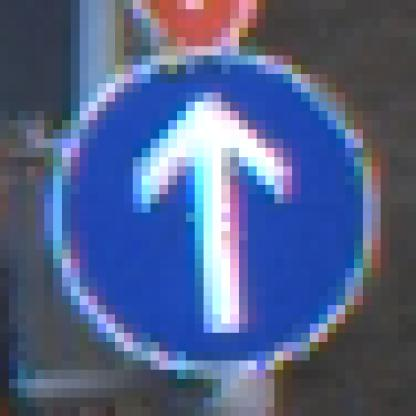AheadOnly: (54, 56, 373, 371)
